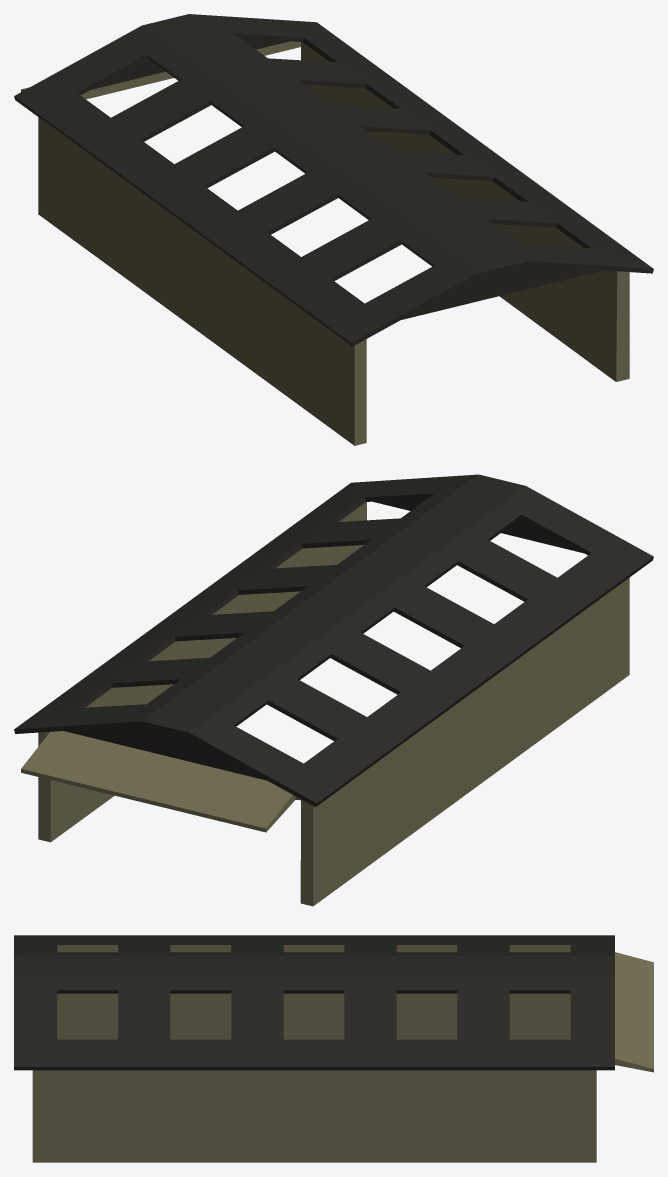
File: Hangar.fbx
3 renders of one model, top to bottom at view 1: azimuth 30°, elevation 25°; view 2: azimuth 150°, elevation 25°; view 3: azimuth 270°, elevation 25°, orthographic. The views are drawn at different scales.
Parts seen in each view (by area): view 1: Cube.001; view 2: Cube.001; view 3: Cube.001.
Part boxes in pixels (x1,y1,x2,y2): Cube.001: (14, 14, 653, 445); Cube.001: (14, 474, 653, 906); Cube.001: (14, 935, 653, 1162).
Size of the model in its own units: 551 by 267 by 1131.
